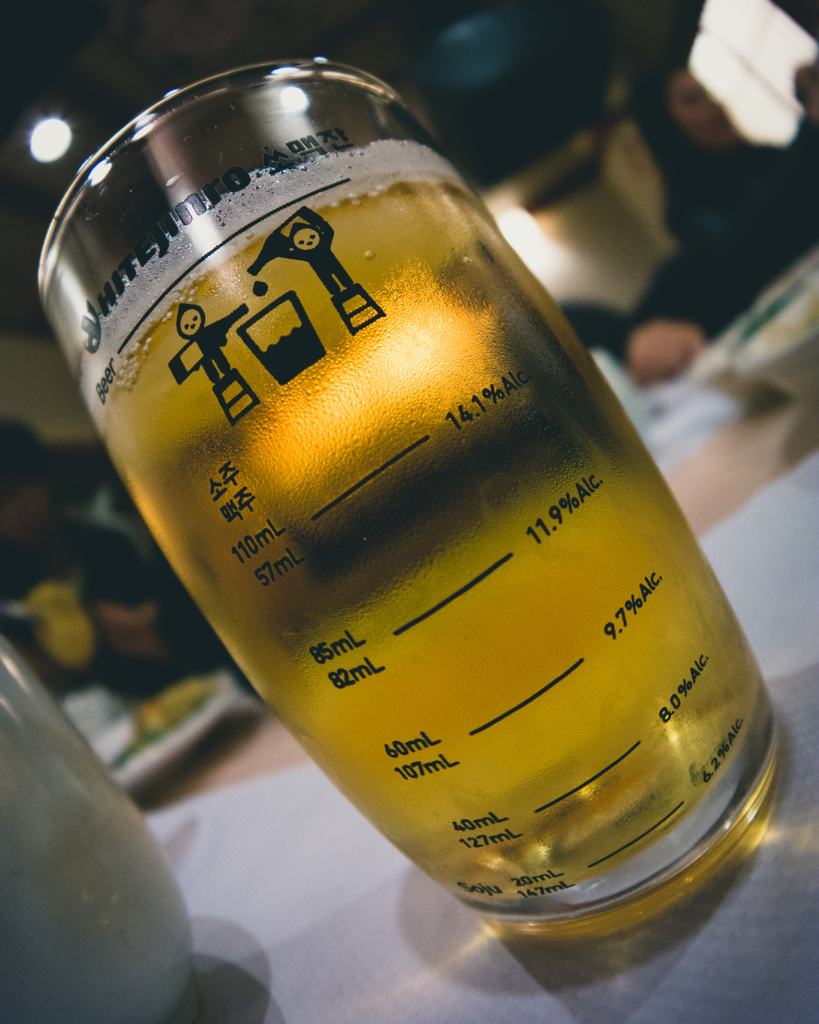Beer: (25, 23, 786, 951)
